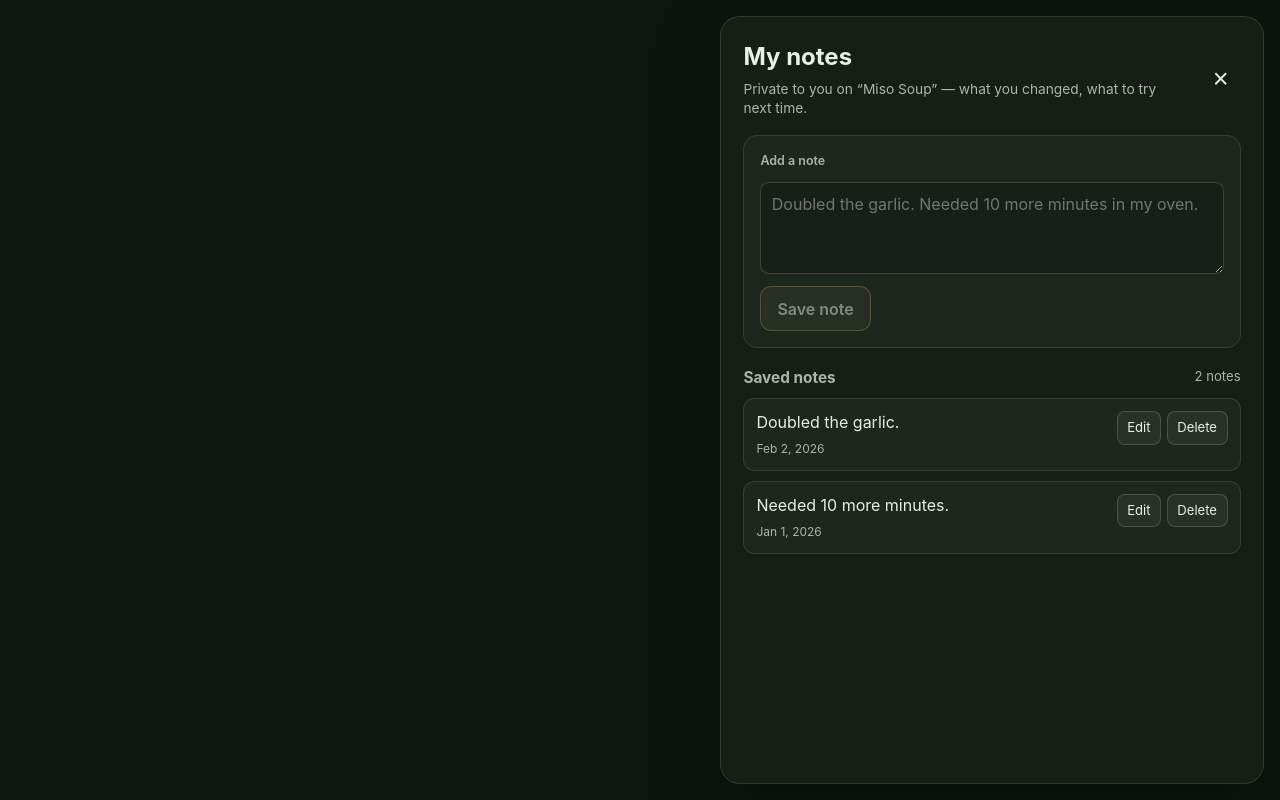
Scenario: RecipeNotesModal › refuses to save an edit that empties the note
Click the button with aria-label "Edit note 1" at point(1139, 428), box [1116,411,1161,445]
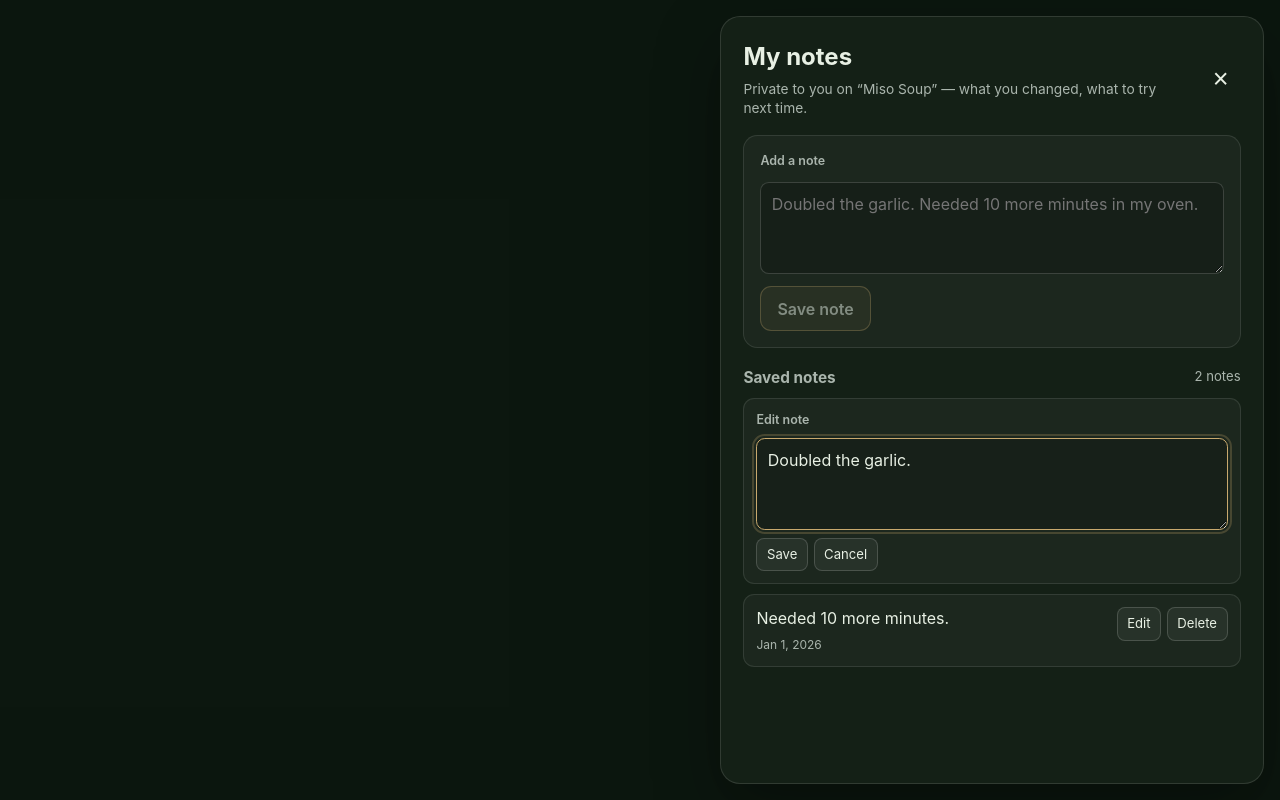
Clear the text box labelled "Edit note" at point(992, 484), box [756,438,1228,530]
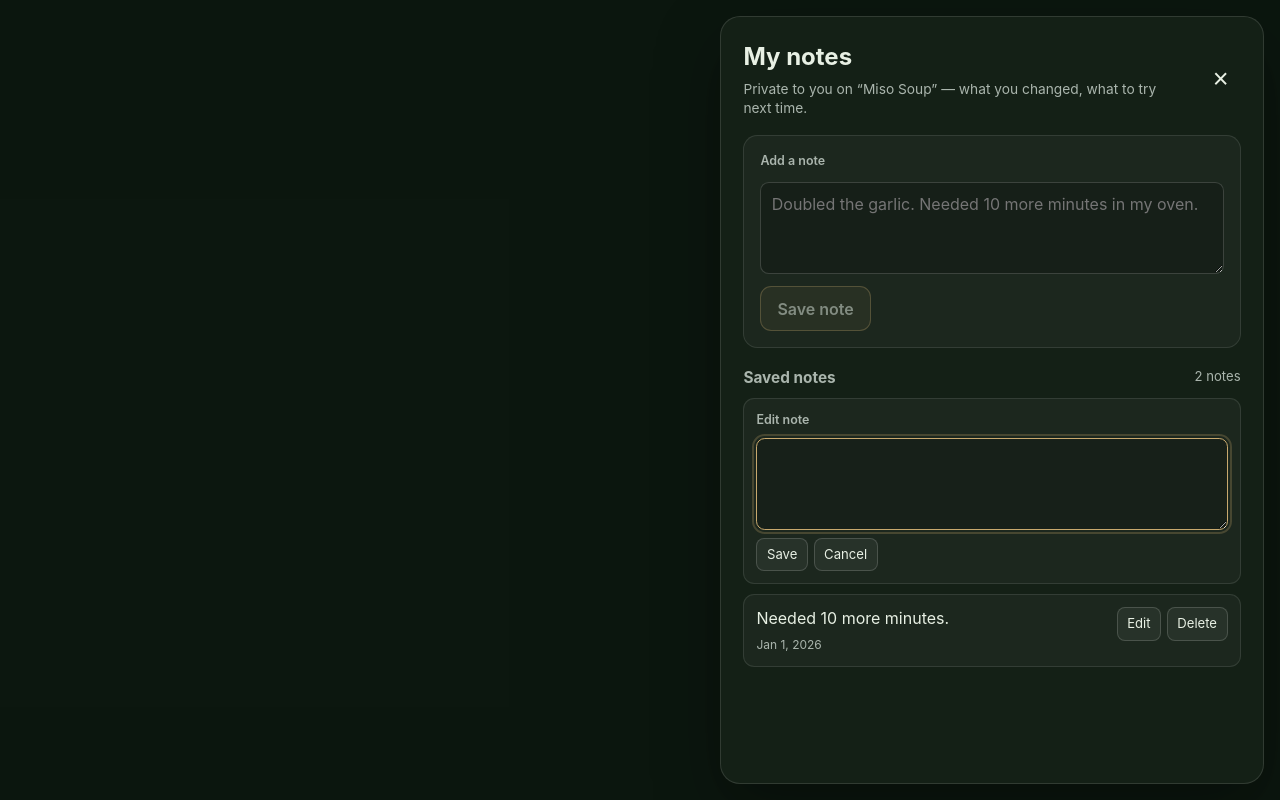
Click the button "Save" at point(782, 554), box [756,538,808,571]
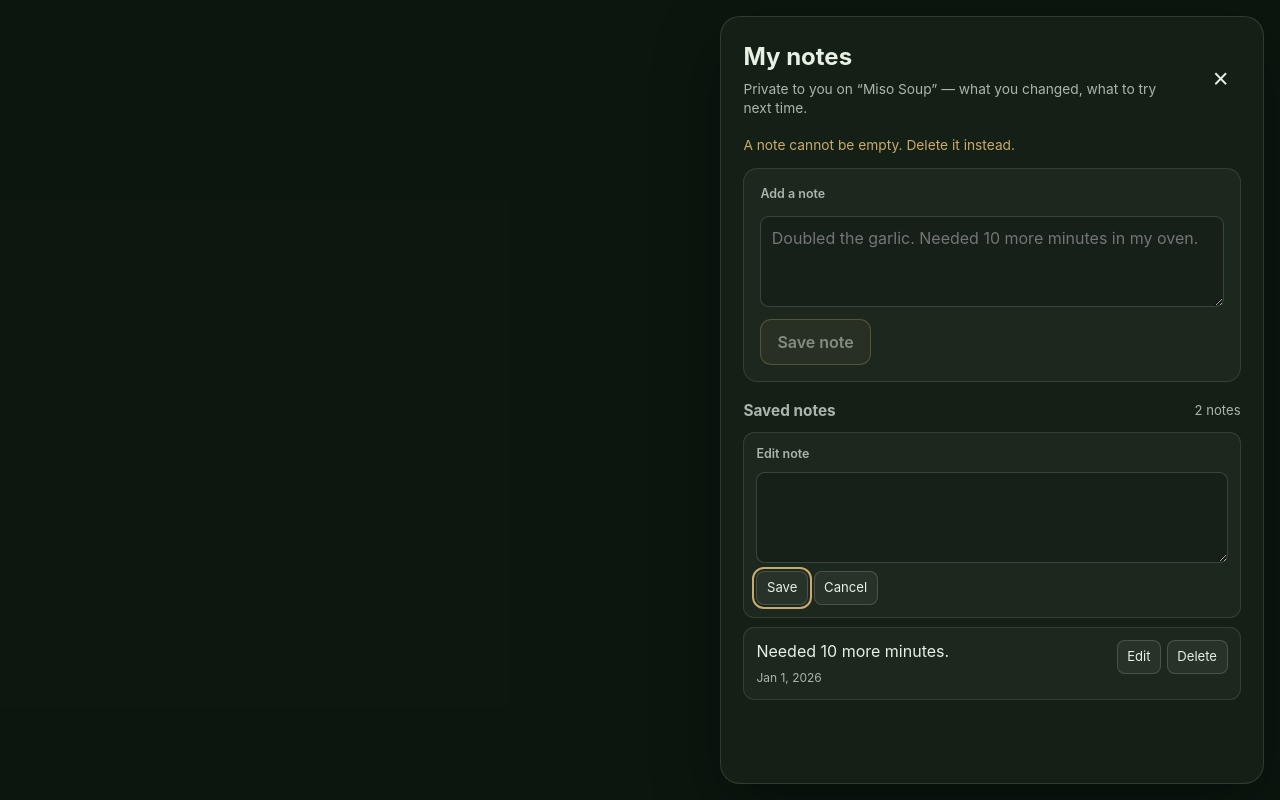
Now the text "A note cannot be empty. Delete it instead." is shown, box [743,137,1015,153]
